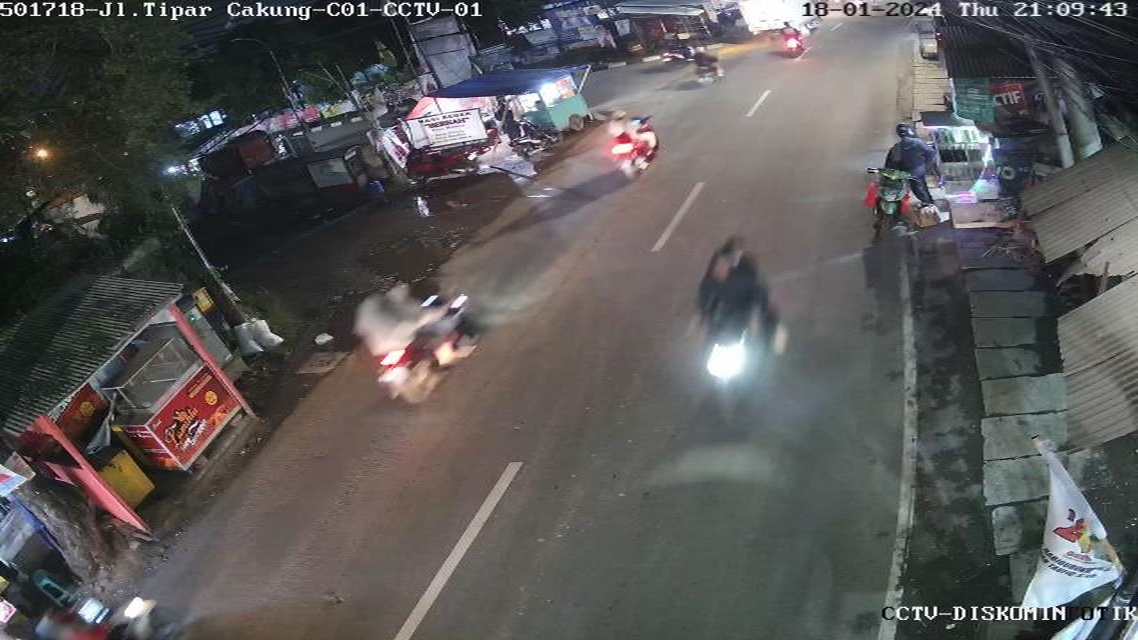Gerobak: (37, 335, 256, 484), (370, 94, 503, 186), (279, 145, 400, 213), (507, 73, 599, 138)
